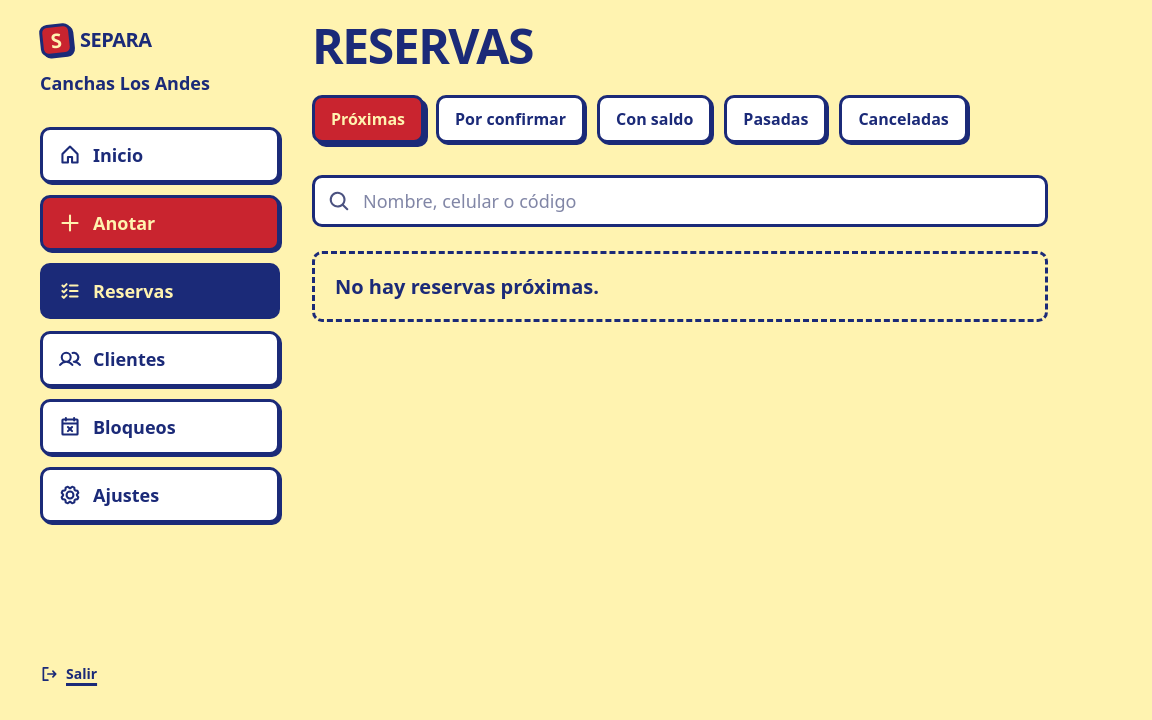
Test: the bookings page › lists what customers still owe, with the code and how much is missing
This screenshot has width=1152, height=720.
Click the tab "Con saldo": click(655, 119) [597, 95, 712, 143]
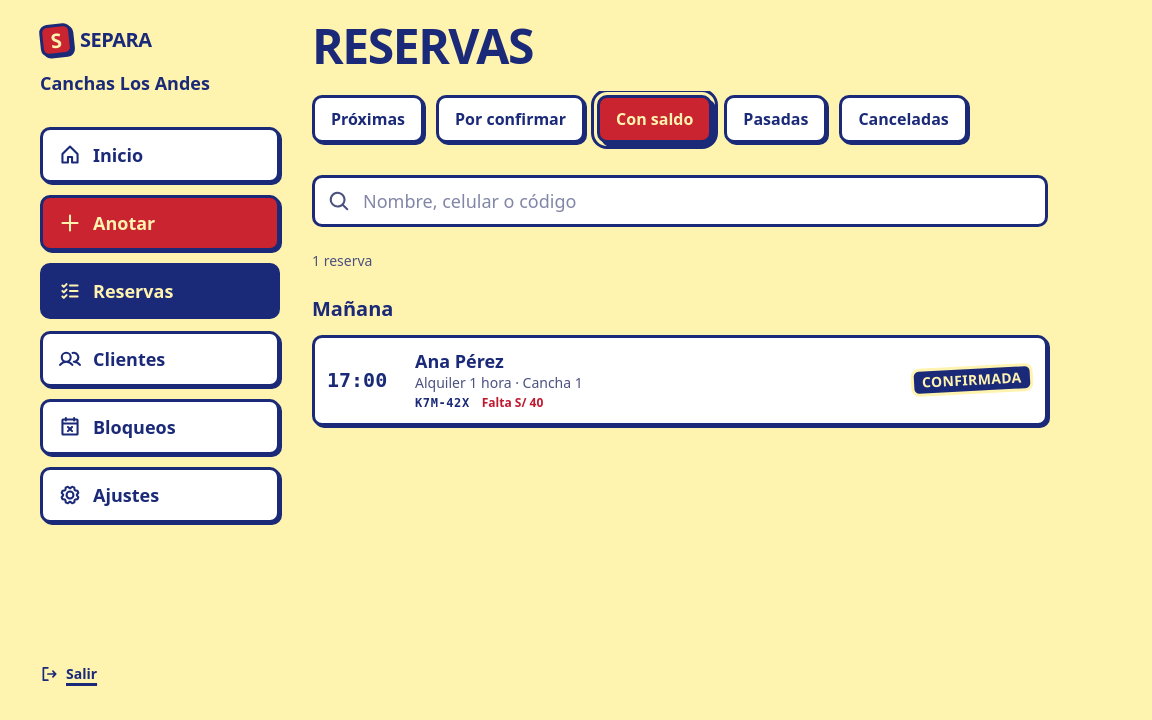
Now the link "Ana Pérez" shows "K7M-42X", box [312, 335, 1048, 426]
Now the link "Ana Pérez" shows "Falta S/ 40", box [312, 335, 1048, 426]
